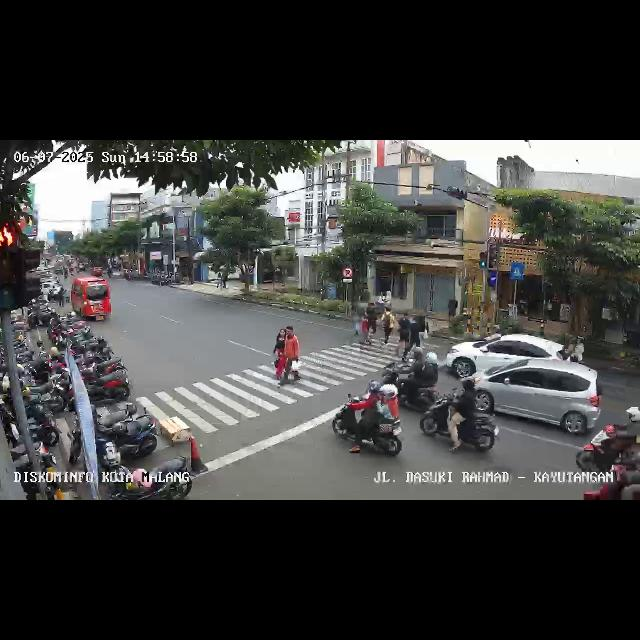car: (478, 362, 598, 438), (446, 334, 572, 378), (70, 277, 112, 323)
motorcycle: (421, 374, 502, 456), (332, 376, 403, 458), (576, 406, 640, 496), (378, 345, 438, 409)
person: (284, 324, 300, 388), (272, 328, 288, 378), (396, 312, 412, 358), (364, 303, 376, 345), (382, 305, 394, 343), (418, 314, 429, 352), (384, 290, 392, 310), (378, 290, 384, 310)
